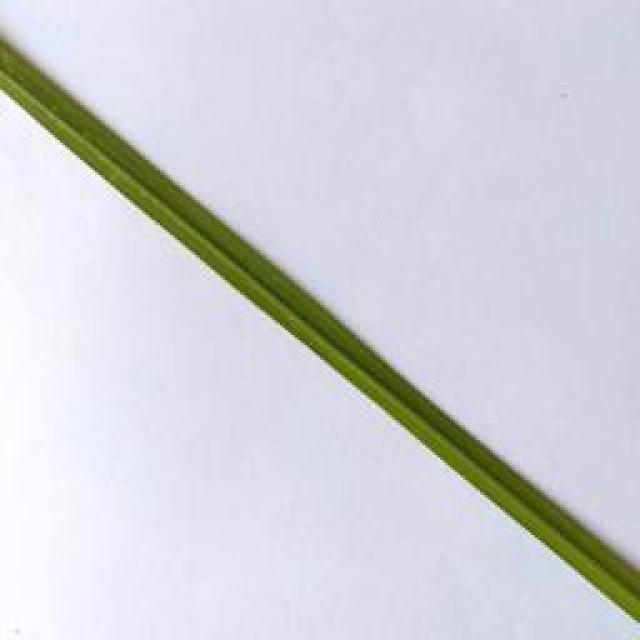Healthy-Plant: (0, 37, 640, 623)
